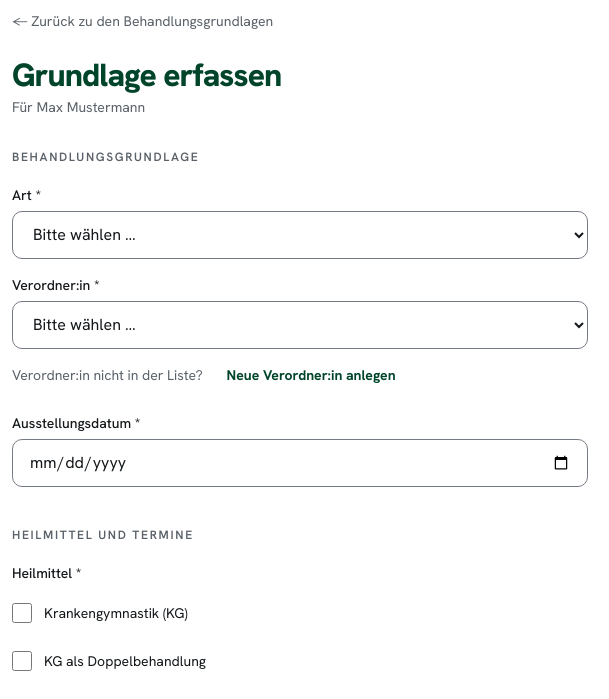
Test: NewTreatmentBasisPage › Die zweite Bauart: Selbstzahler › leert die Verordner:in sichtbar beim Wechsel und laesst sie leer zurueck
The width and height of the screenshot is (609, 699).
Step 1. Select "Probst, Petra (Dr. med.) · Praxis Fiktiv" in the dropdown labelled "Verordner:in *" → [300, 325], box [12, 301, 588, 349]
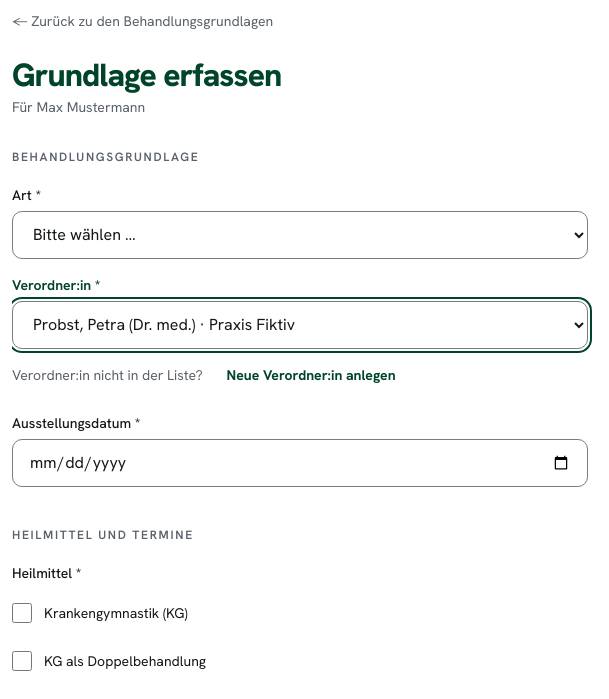
Step 2. Select "Selbstzahler" in the dropdown labelled "Art *" → [300, 235], box [12, 211, 588, 259]
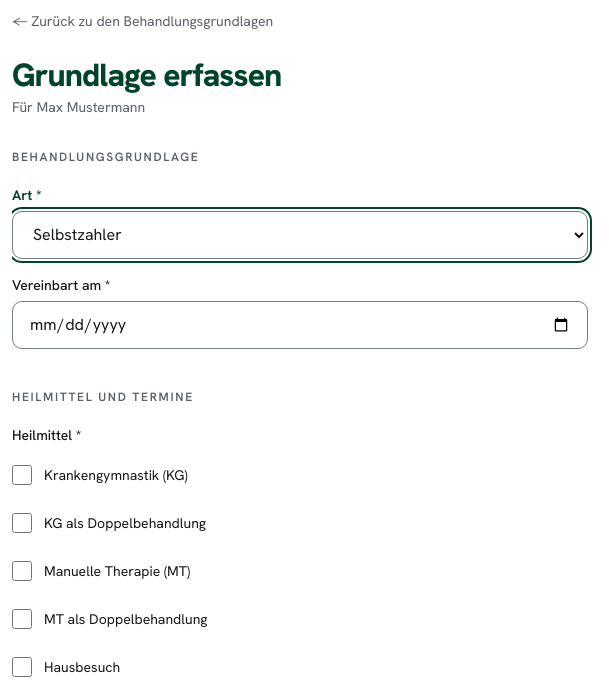
Step 3. Select "Erstverordnung" in the dropdown labelled "Art *" → [300, 235], box [12, 211, 588, 259]
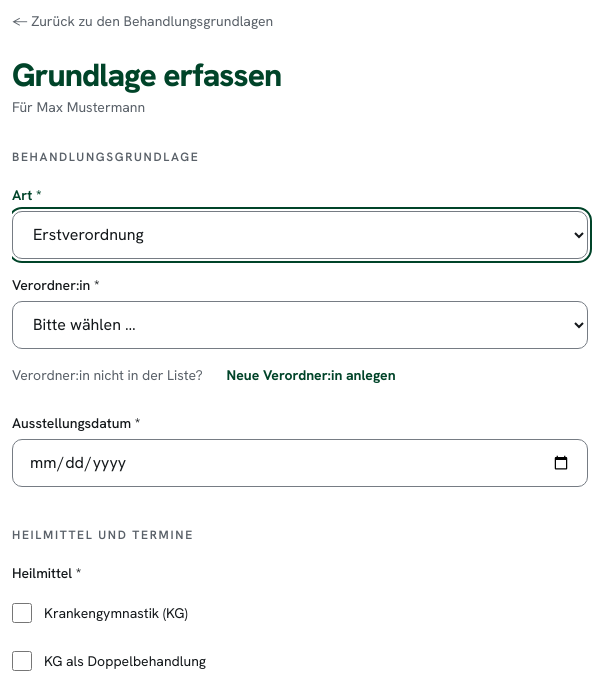
Expected: the dropdown labelled "Verordner:in *" shows "Bitte wählen …", [12, 301, 588, 349]
